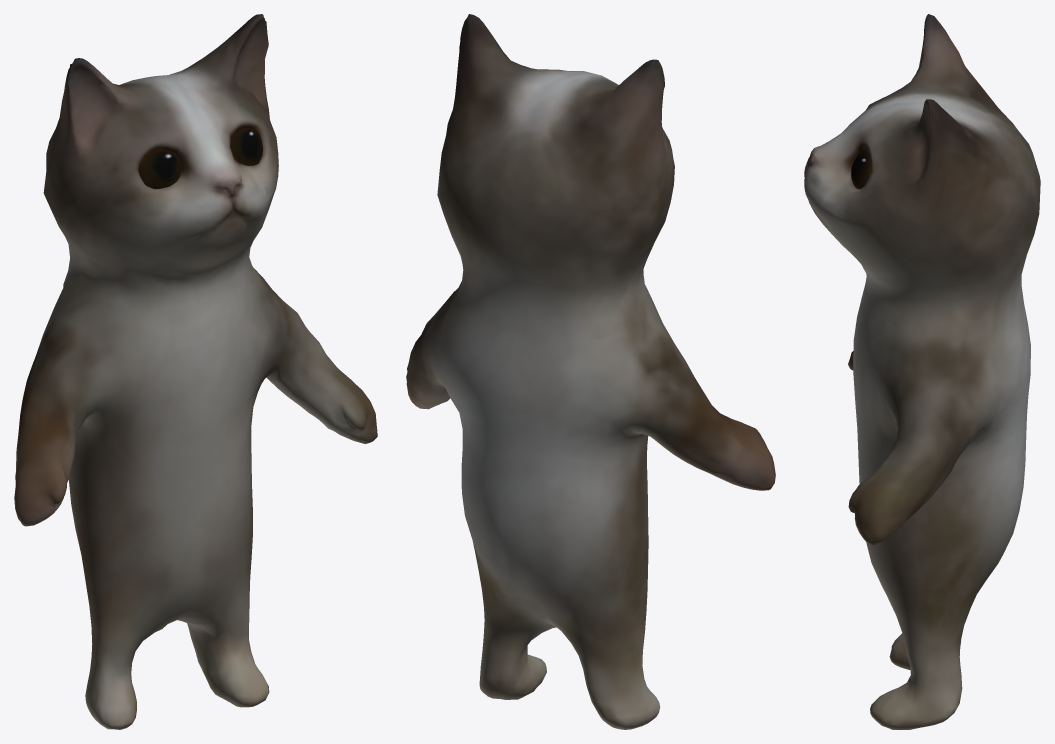
The model's file is catHappy.glb.
3 renders of one model, left to right at view 1: azimuth 30°, elevation 25°; view 2: azimuth 150°, elevation 25°; view 3: azimuth 270°, elevation 25°, orthographic. The views are drawn at different scales.
Parts seen in each view (by area): view 1: geometry_0; view 2: geometry_0; view 3: geometry_0.
Part boxes in pixels (left/top/right/bottom): geometry_0: left=14, top=14, right=377, bottom=729; geometry_0: left=406, top=14, right=775, bottom=729; geometry_0: left=804, top=14, right=1040, bottom=729.
Size of the model in its own units: 0.5342 by 0.9502 by 0.3179.
Materials: 1 (1 with a texture image).
